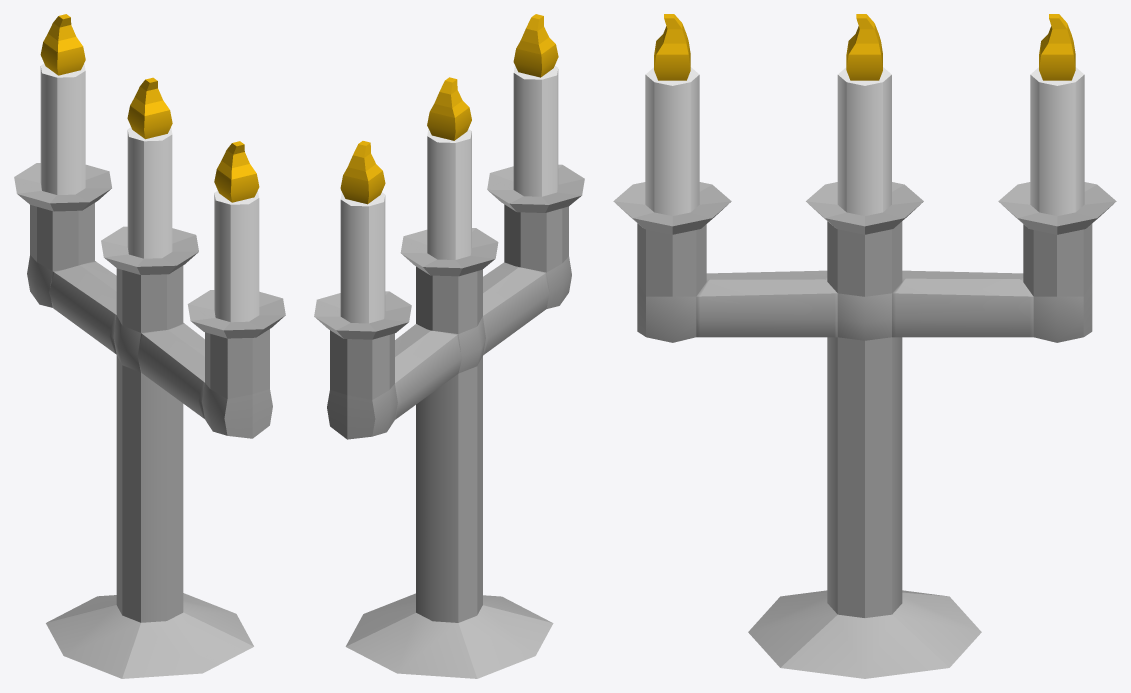
File: prop export - candelabra 1.fbx
The picture shows the model from 3 angles, left to right: view 1: azimuth 30°, elevation 25°; view 2: azimuth 150°, elevation 25°; view 3: azimuth 270°, elevation 25°; orthographic projection. The views are drawn at different scales.
Parts seen in each view (by area): view 1: pCube69, Candle3, Candle2, Candle1, flame1, flame3, flame2; view 2: pCube69, Candle1, Candle3, Candle2, flame2, flame3, flame1; view 3: pCube69, Candle3, Candle1, Candle2, flame3, flame1, flame2.
Part boxes in pixels (bbox=[...]): pCube69: bbox=[27, 203, 272, 678]; Candle3: bbox=[187, 190, 285, 338]; Candle2: bbox=[101, 127, 198, 274]; Candle1: bbox=[14, 63, 111, 211]; flame1: bbox=[40, 14, 85, 75]; flame3: bbox=[214, 141, 259, 202]; flame2: bbox=[127, 77, 172, 139]; pCube69: bbox=[327, 204, 571, 678]; Candle1: bbox=[314, 192, 411, 339]; Candle3: bbox=[487, 65, 584, 212]; Candle2: bbox=[400, 128, 498, 276]; flame2: bbox=[427, 77, 471, 140]; flame3: bbox=[513, 14, 558, 77]; flame1: bbox=[340, 141, 385, 204]; pCube69: bbox=[637, 221, 1092, 678]; Candle3: bbox=[613, 67, 731, 234]; Candle1: bbox=[998, 67, 1116, 234]; Candle2: bbox=[806, 67, 923, 234]; flame3: bbox=[654, 14, 690, 80]; flame1: bbox=[1039, 14, 1075, 80]; flame2: bbox=[846, 14, 882, 80].
Size of the model in its own units: 34.04 by 105 by 77.44.
